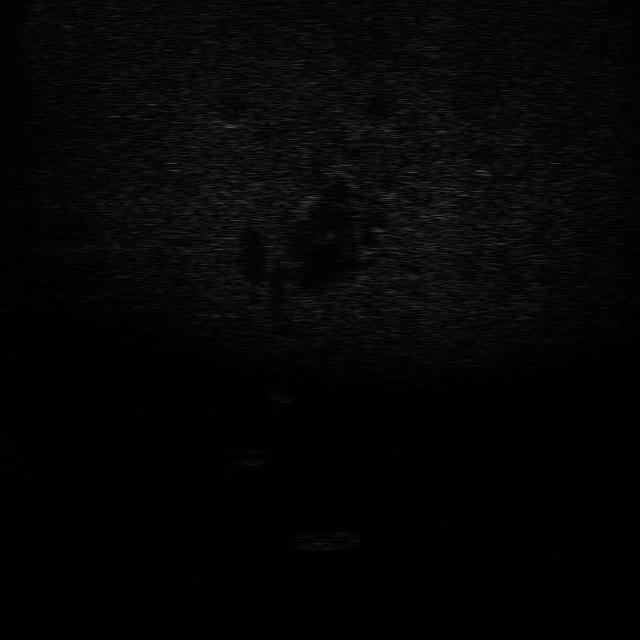ball: (231, 445, 271, 468)
circle cage: (285, 526, 363, 555)
human body: (260, 364, 295, 422)
